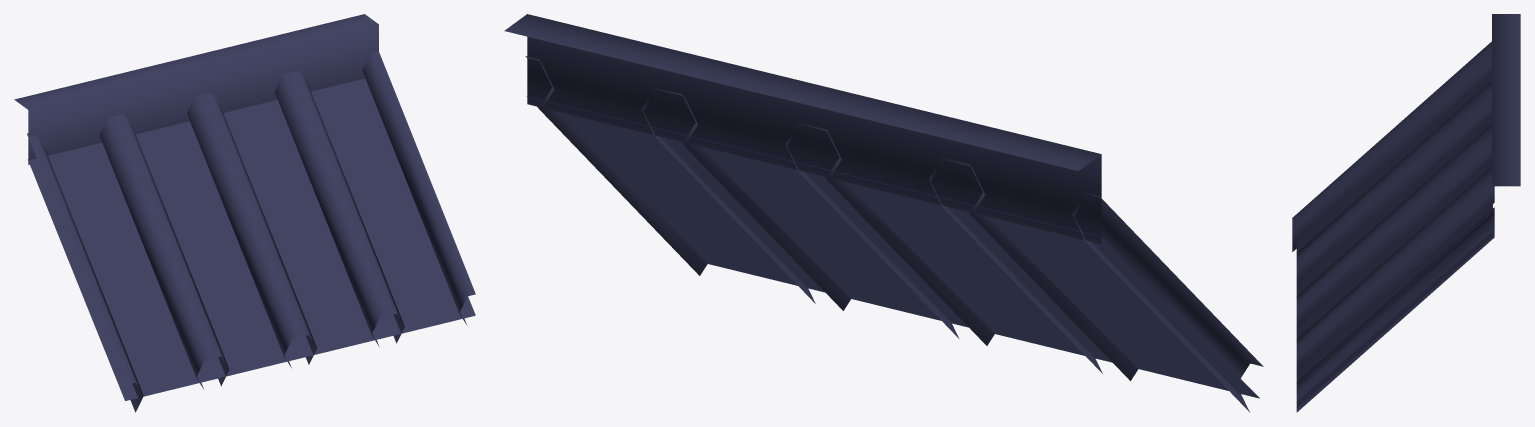
File: Building_Corridor_2.fbx
The picture shows the model from 3 angles, left to right: view 1: azimuth 30°, elevation 25°; view 2: azimuth 150°, elevation 25°; view 3: azimuth 270°, elevation 25°; orthographic projection. The views are drawn at different scales.
Visible parts, largest first — view 1: Plane.015, Cube.011, Circle.012, Circle.010, Circle.011, Circle.014, Circle.013; view 2: Plane.015, Cube.011, Circle.013, Circle.010, Circle.011, Circle.012, Circle.014; view 3: Plane.015, Circle.011, Circle.012, Circle.010, Circle.013, Circle.014, Cube.011.
Boxes of the visible parts, box(x1,y1,x2,y2) form: Plane.015: box(28, 78, 475, 400); Cube.011: box(14, 14, 378, 164); Circle.012: box(99, 113, 229, 389); Circle.010: box(187, 92, 316, 367); Circle.011: box(274, 71, 404, 346); Circle.014: box(362, 51, 475, 325); Circle.013: box(27, 133, 143, 412); Plane.015: box(527, 96, 1259, 398); Cube.011: box(504, 14, 1101, 244); Circle.013: box(1072, 193, 1263, 412); Circle.010: box(785, 123, 994, 345); Circle.011: box(641, 87, 850, 310); Circle.012: box(928, 157, 1138, 380); Circle.014: box(525, 56, 707, 275); Plane.015: box(1296, 71, 1492, 407); Circle.011: box(1296, 166, 1494, 370); Circle.012: box(1296, 80, 1491, 284); Circle.010: box(1296, 123, 1491, 327); Circle.013: box(1292, 41, 1491, 251); Circle.014: box(1296, 207, 1494, 412); Cube.011: box(1492, 14, 1520, 186).
Size of the model in its own units: 200 by 127 by 112.
